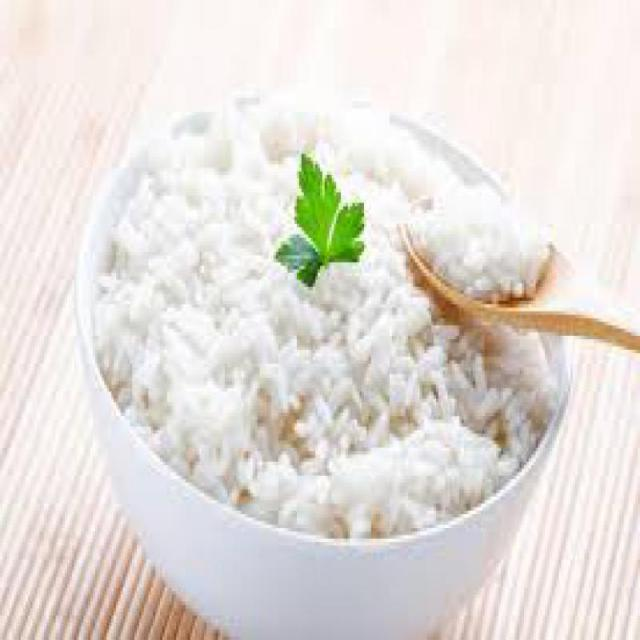nasi_putih: (94, 83, 557, 542)
